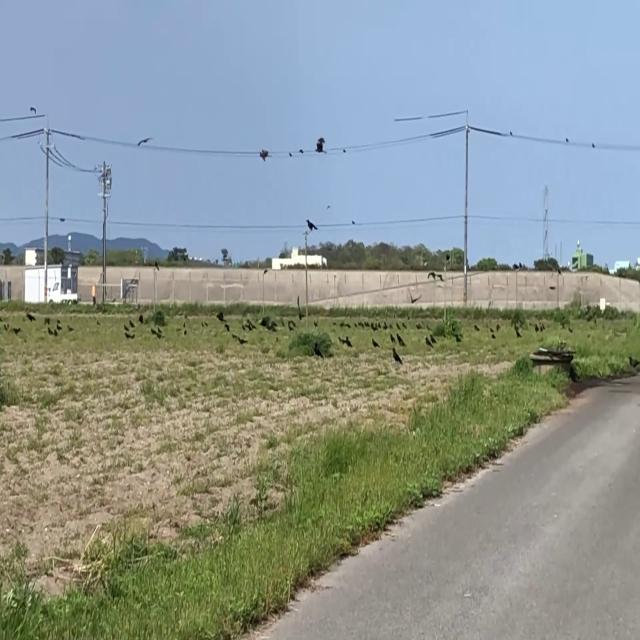bird: (316, 128, 326, 158), (139, 129, 149, 152), (260, 142, 268, 165), (393, 342, 400, 368), (432, 274, 442, 286), (346, 333, 351, 351), (372, 334, 377, 350), (427, 334, 431, 353), (298, 299, 302, 318), (535, 319, 538, 335)
